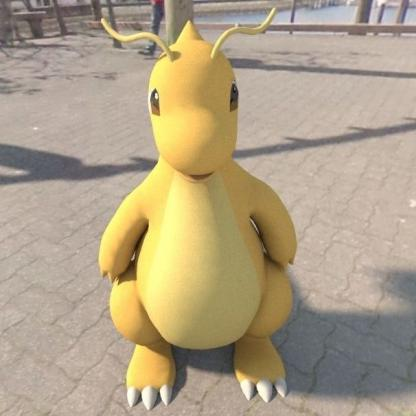Dragonite: (70, 5, 323, 410)
